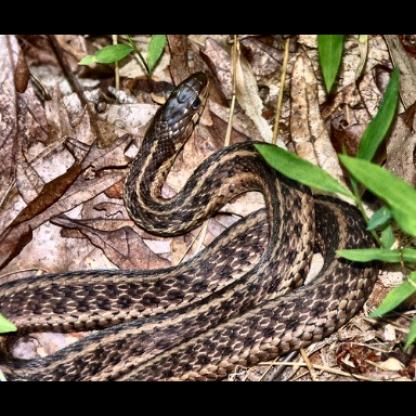Snake: (10, 64, 416, 355)
